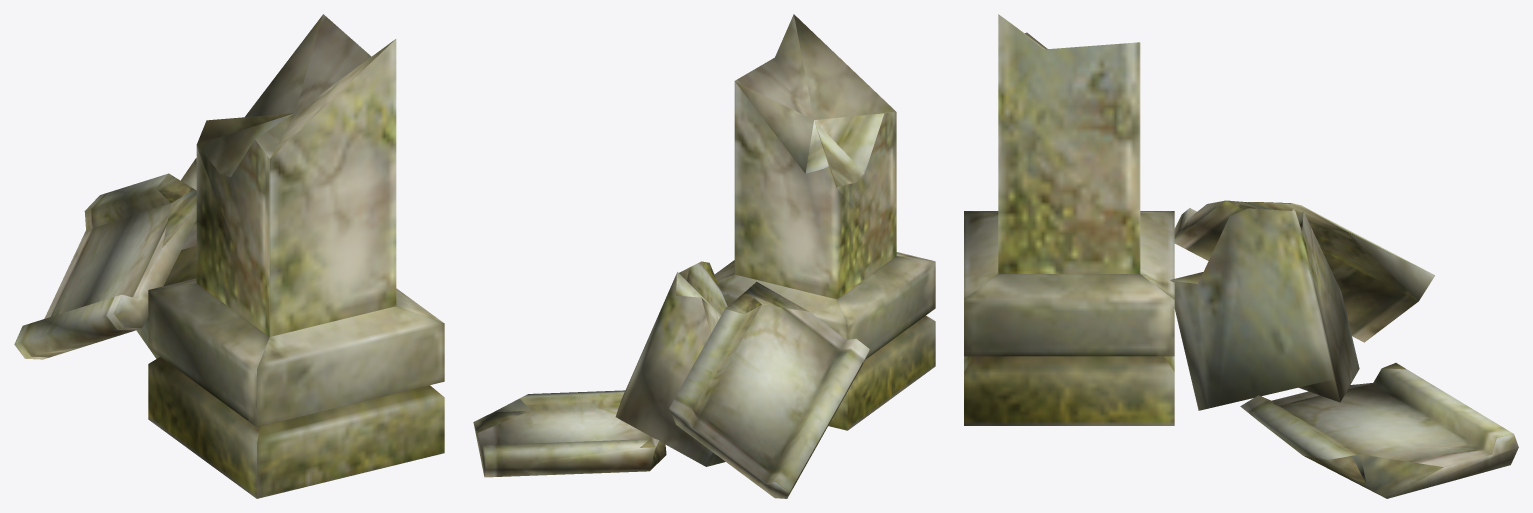
The model's file is a_SWCstate02B.glb.
3 views of the same model, side by side, from view 1: azimuth 30°, elevation 25°; view 2: azimuth 150°, elevation 25°; view 3: azimuth 270°, elevation 25° (orthographic). The views are drawn at different scales.
Parts seen in each view (by area): view 1: a_SWCstate02B; view 2: a_SWCstate02B; view 3: a_SWCstate02B.
Boxes of the visible parts, left/top/right/bottom form: a_SWCstate02B: left=14, top=14, right=444, bottom=498; a_SWCstate02B: left=473, top=14, right=935, bottom=498; a_SWCstate02B: left=964, top=14, right=1518, bottom=498.
Size of the model in its own units: 0.7293 by 0.7829 by 0.9417.
Materials: 1 (1 with a texture image).
